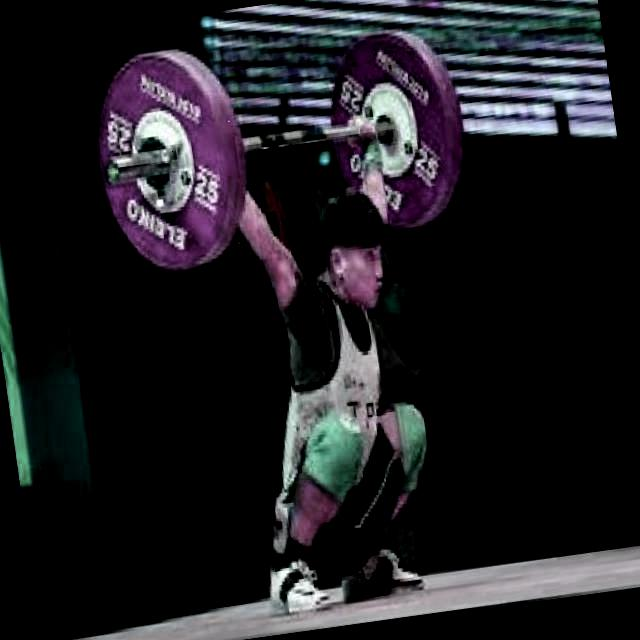barbell: (80, 35, 263, 290)
